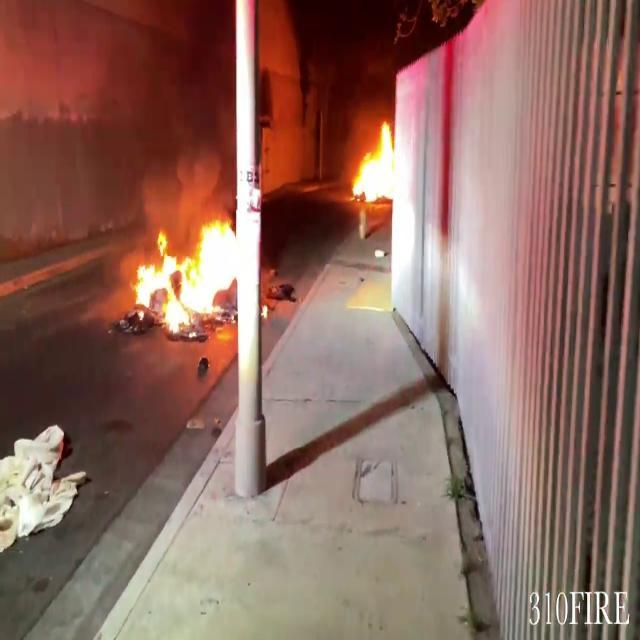Fire: (125, 208, 239, 332), (348, 112, 398, 213)
